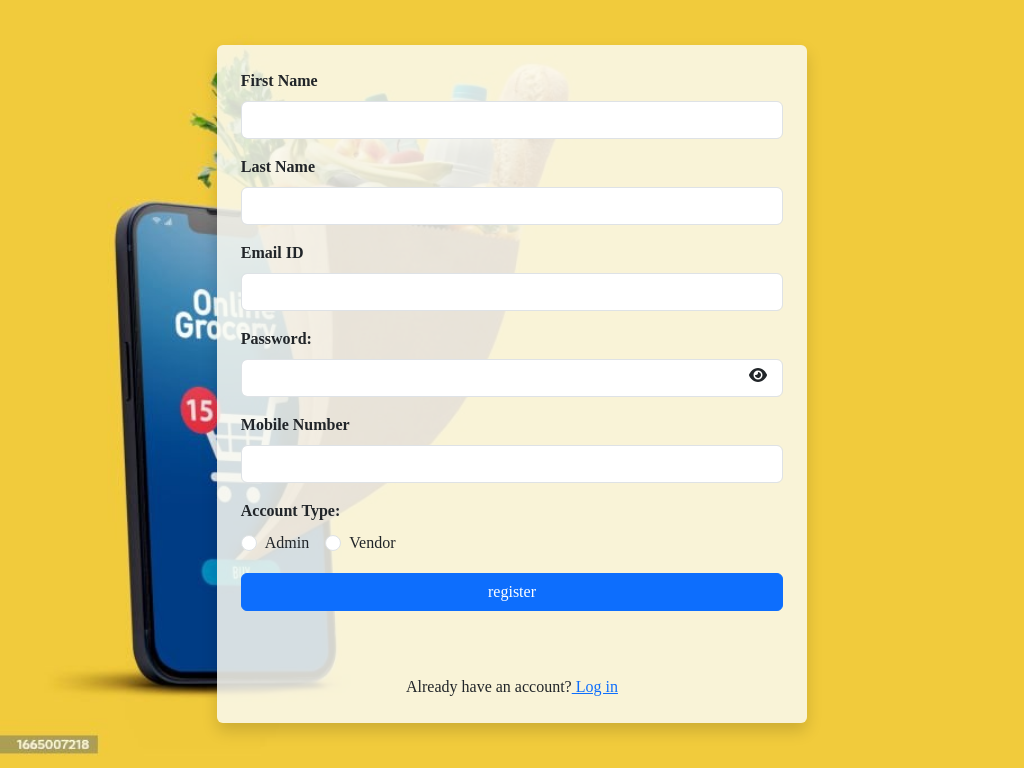
RegistrationForm › shows additional fields for Vendor account type
Click the radio button labelled "Vendor": [333, 543] box [325,535,341,551]
(page scrolled)
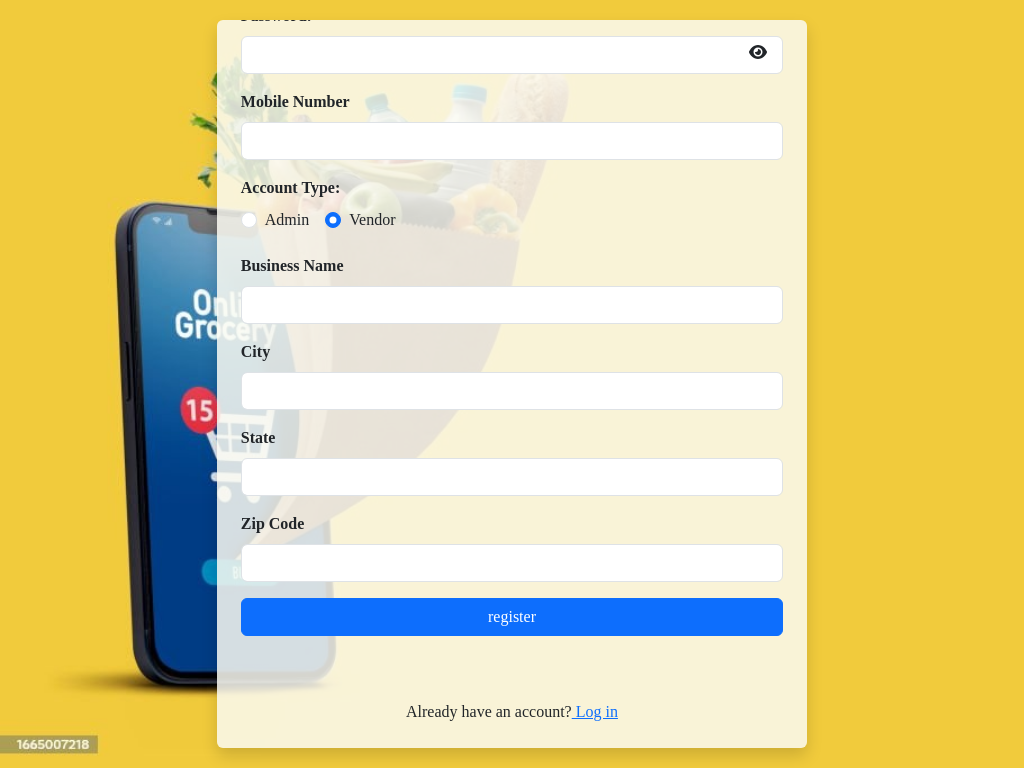
Result: the field labelled "Business Name" is shown at [241,286,783,324]
Result: the field labelled "City" is shown at [241,372,783,410]
Result: the field labelled "State" is shown at [241,458,783,496]
